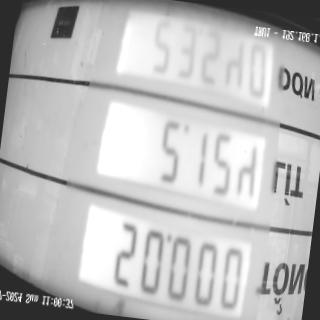screen: (68, 0, 287, 320)
